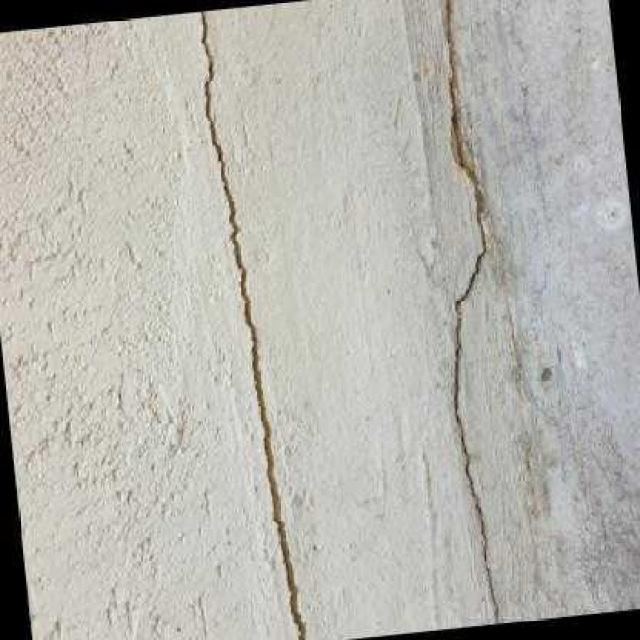D00: (196, 15, 307, 640), (442, 0, 502, 624)
